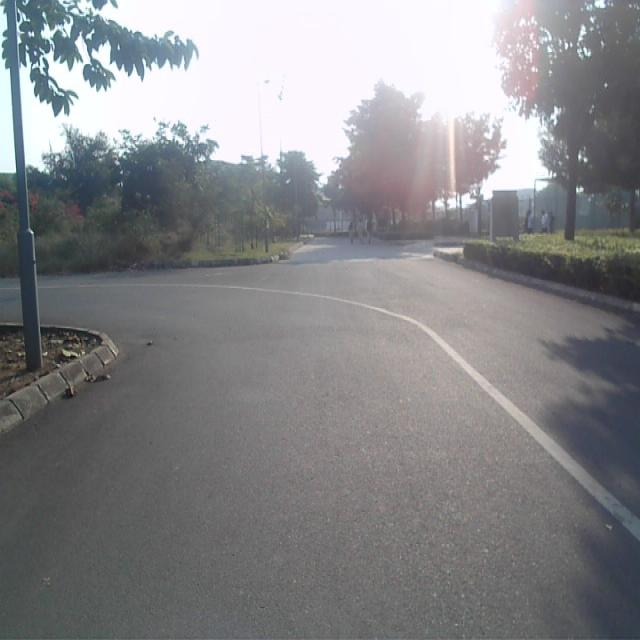lane: (0, 284, 640, 640)
